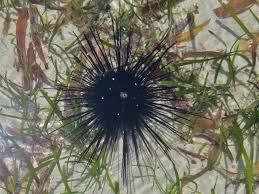urchin: (28, 12, 218, 187)
